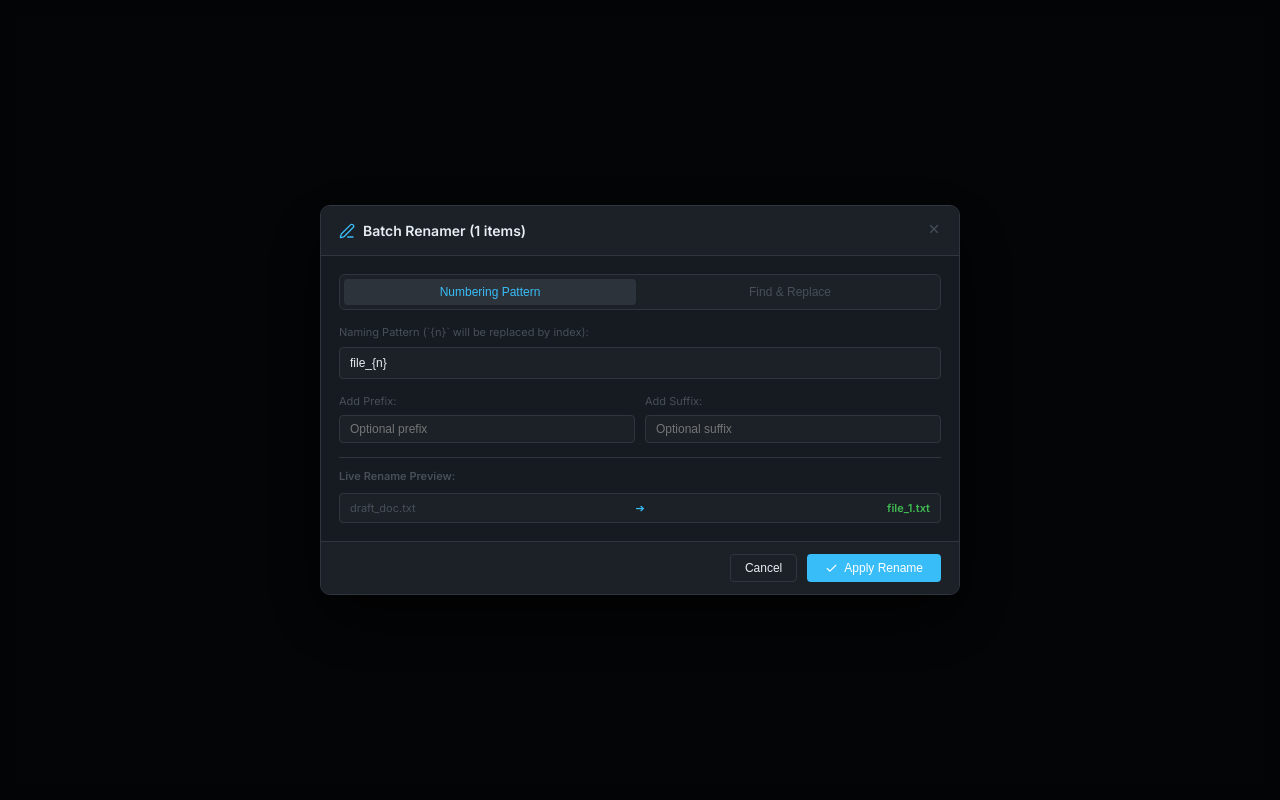
BatchRenameModal Component Tests › switches to Find & Replace mode and replaces text in preview
Click the button "Find & Replace".
click(790, 292)  # box x1=644 y1=279 x2=936 y2=305
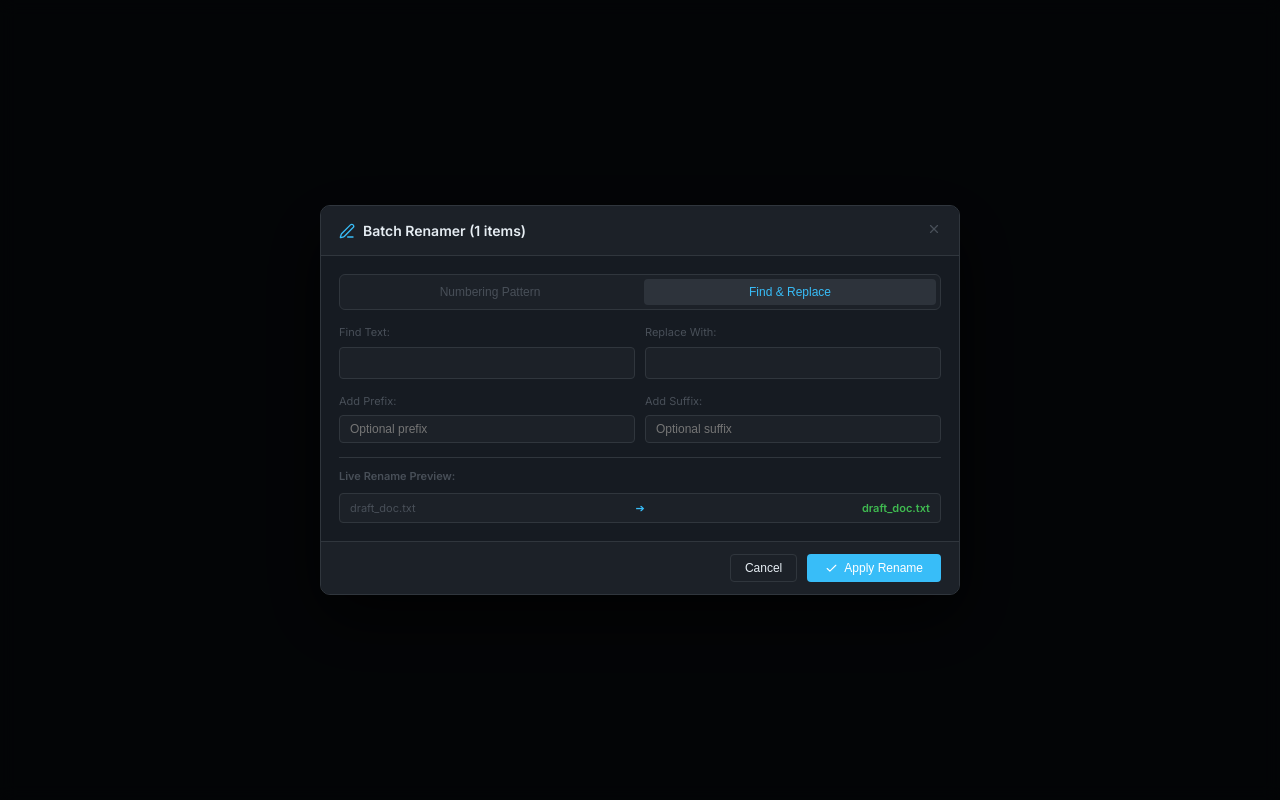
Type "draft" into the field below "Find Text:".
click(487, 362); type("draft")  # box x1=339 y1=346 x2=635 y2=378
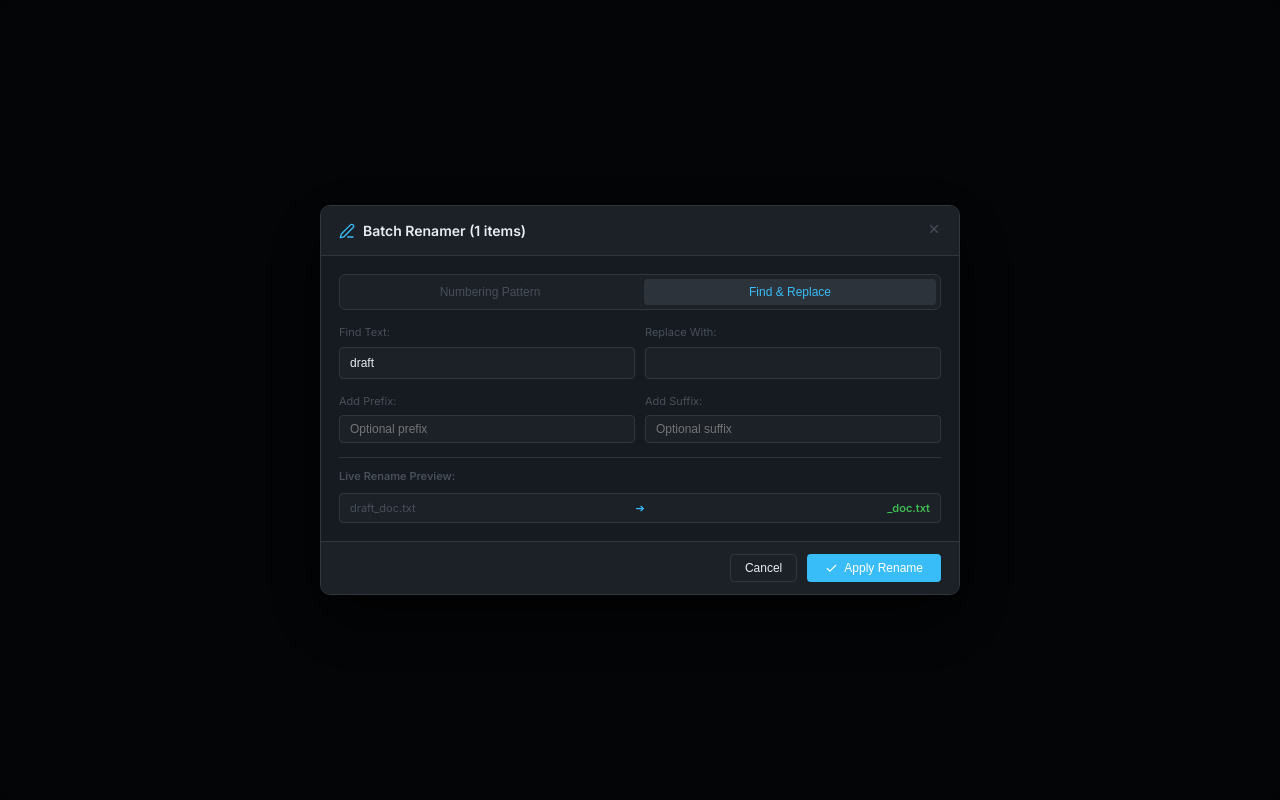
Type "final" into the field below "Replace With:".
click(793, 362); type("final")  # box x1=645 y1=346 x2=941 y2=378
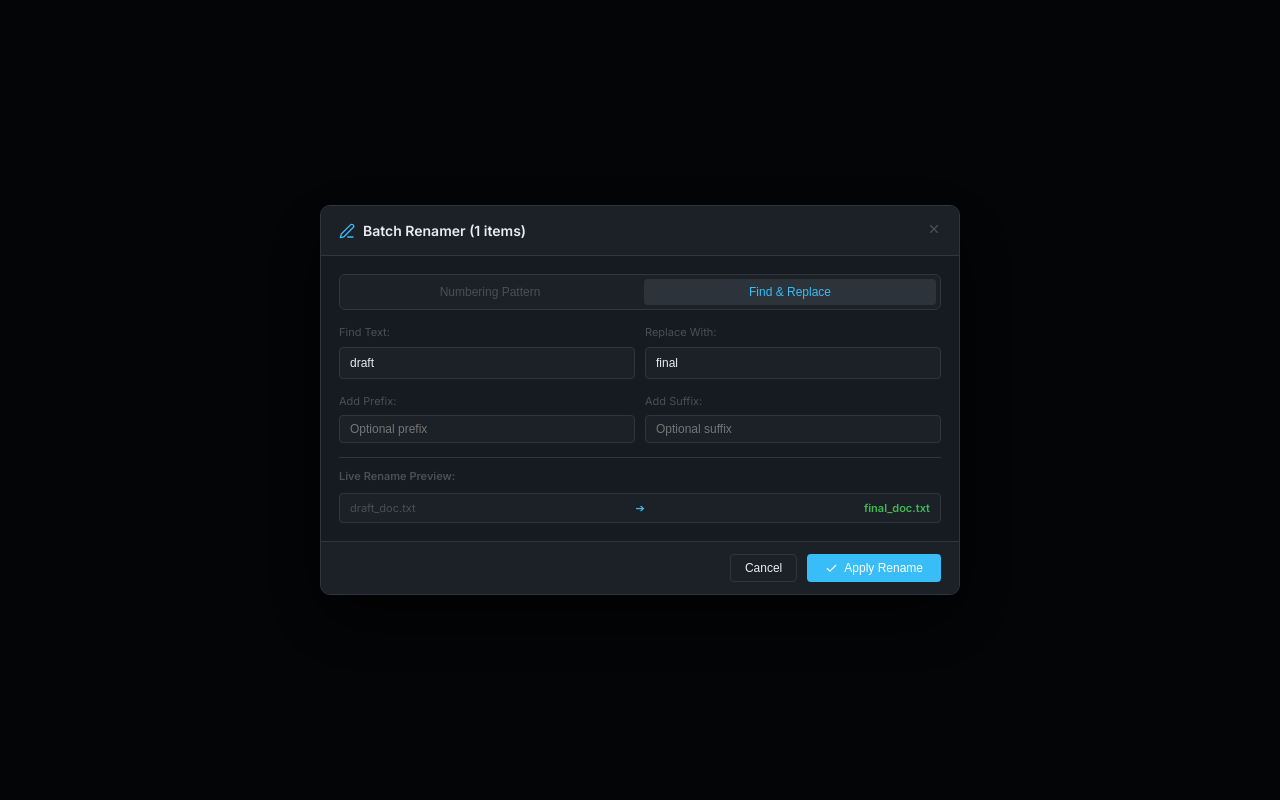
expect the text "final_doc.txt" is shown: met, box x1=864 y1=500 x2=930 y2=514
